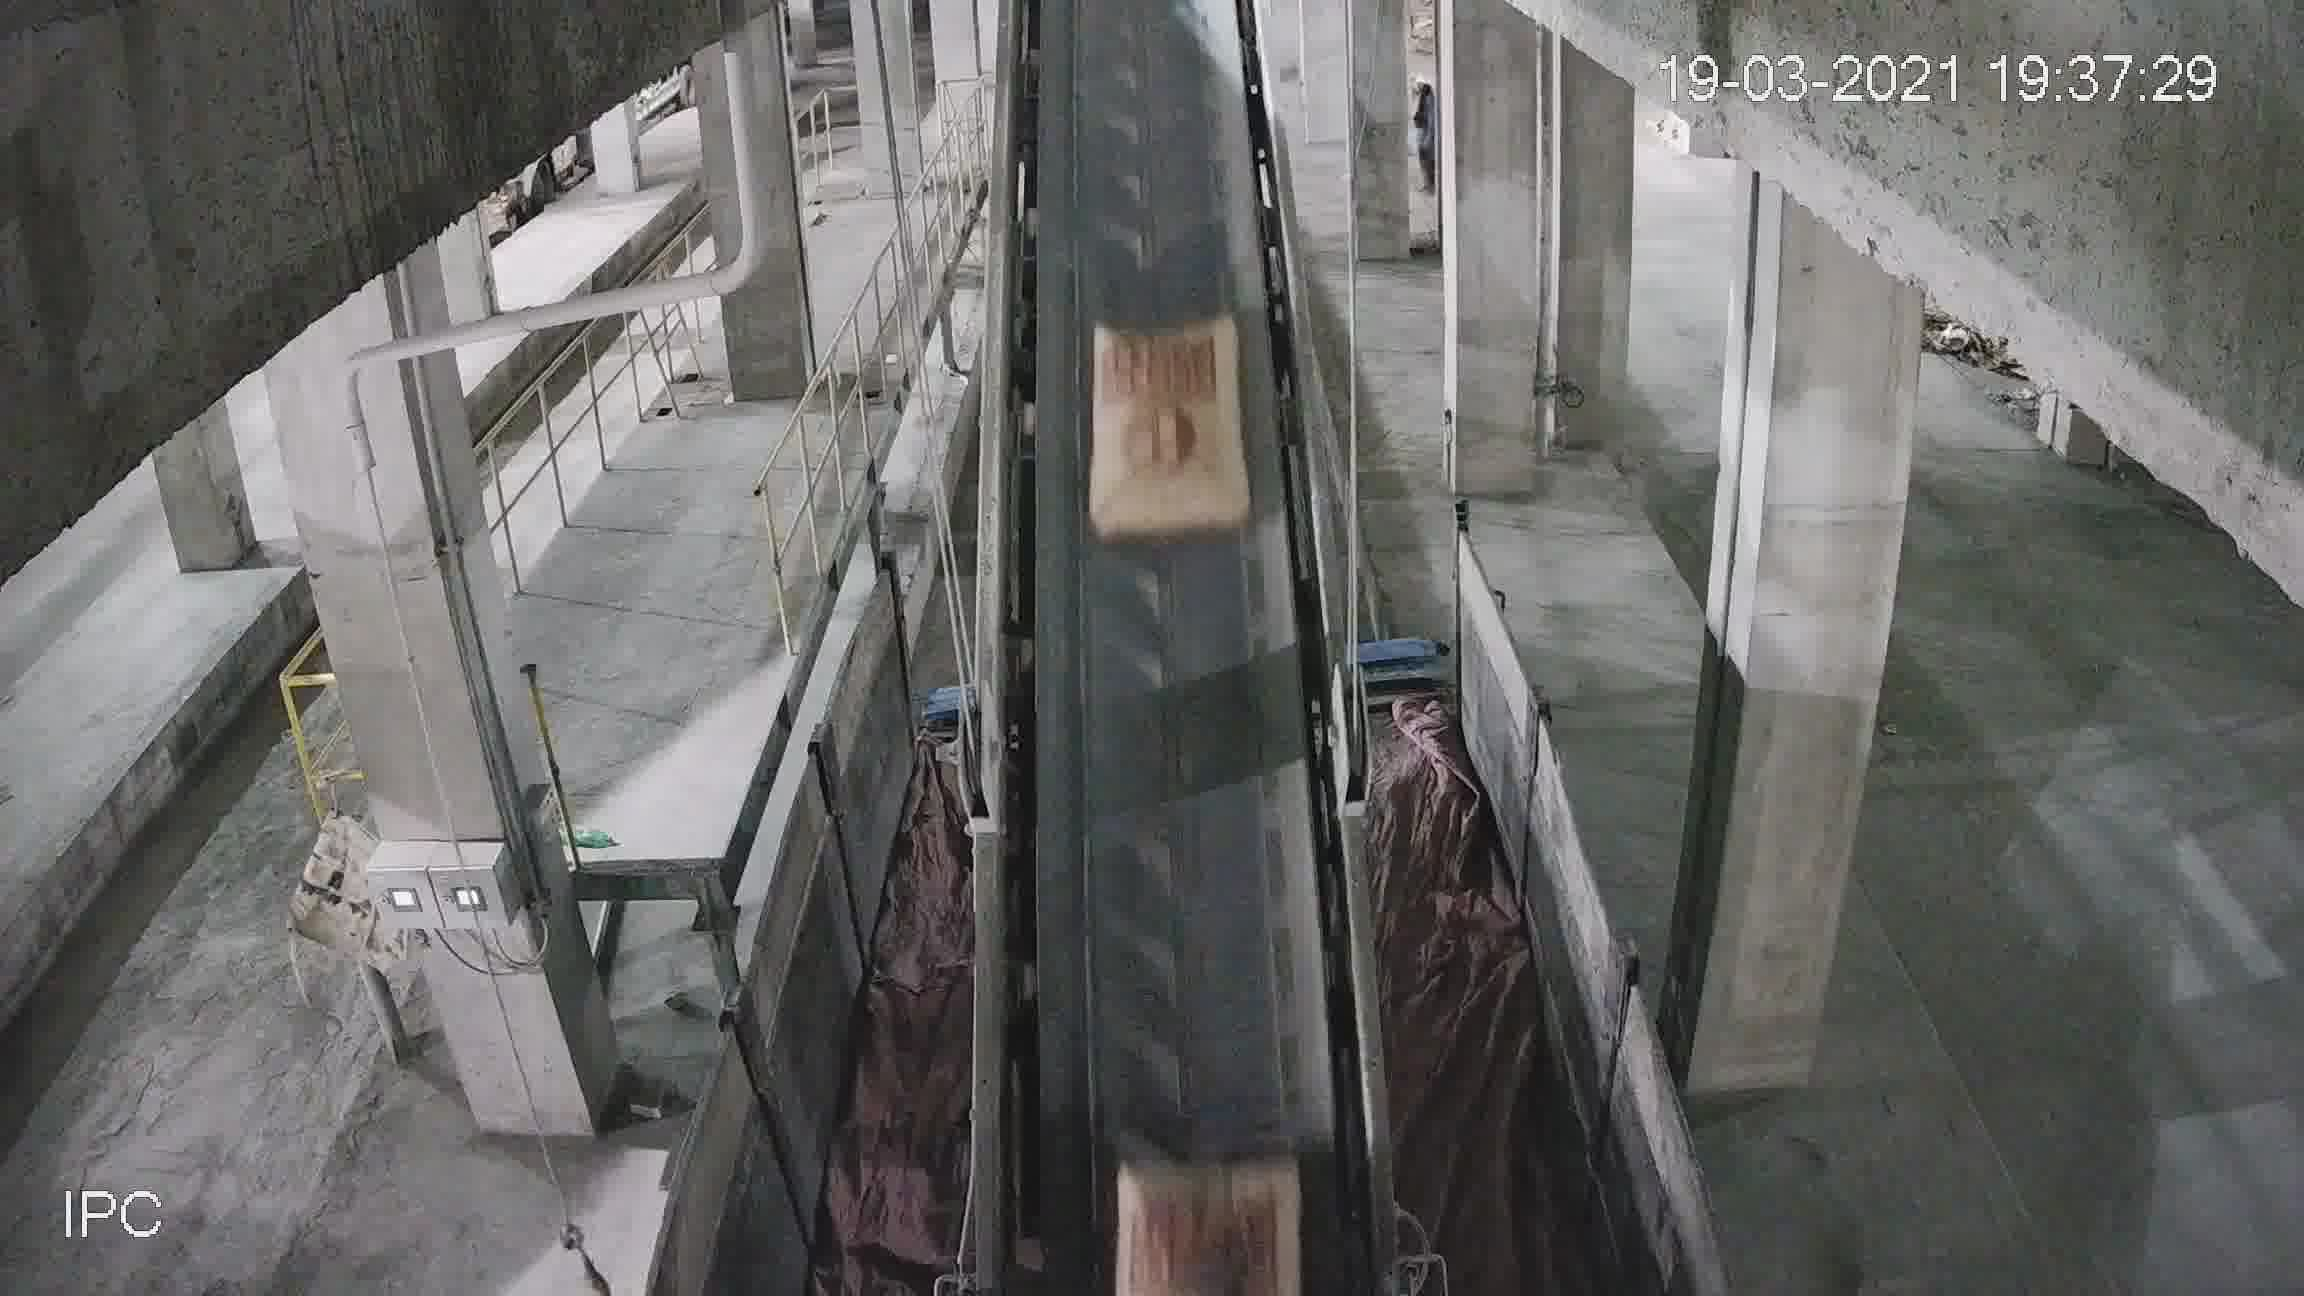bag: (1089, 332, 1239, 535), (1116, 1147, 1313, 1204)
belt: (968, 27, 1350, 1169)
